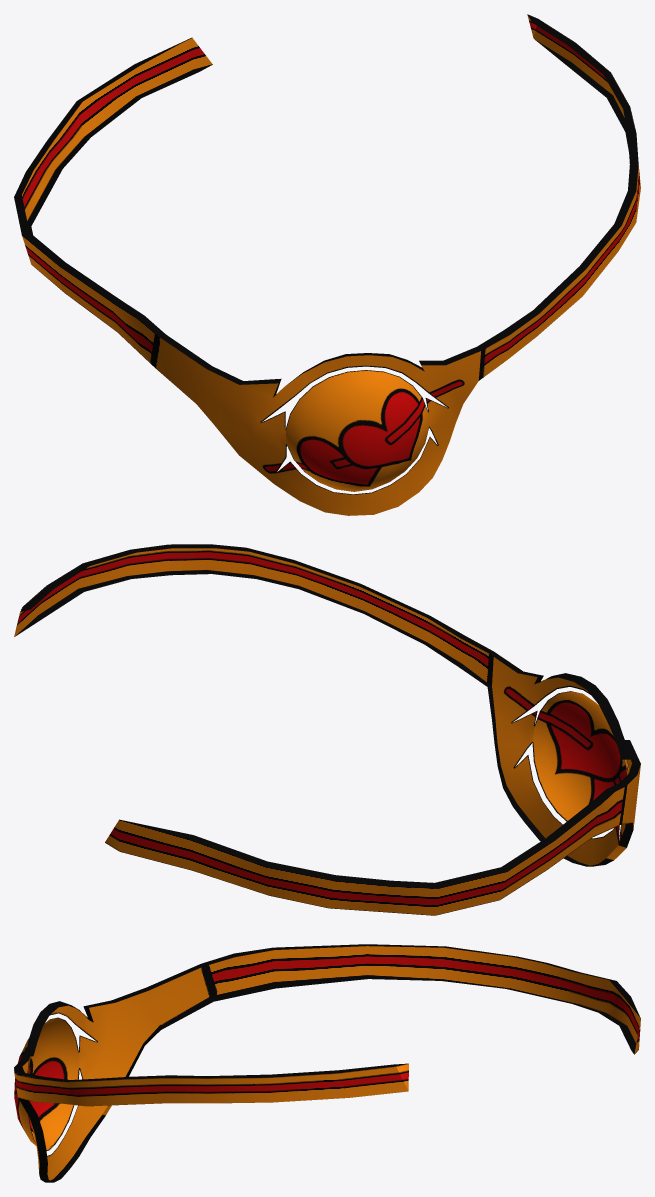
File: _headwear_004_jiuyou.fbx
3 renders of one model, top to bottom at view 1: azimuth 30°, elevation 25°; view 2: azimuth 150°, elevation 25°; view 3: azimuth 270°, elevation 25°, orthographic. The views are drawn at different scales.
Visible parts, largest first — view 1: f_headwear_004_jiuyou; view 2: f_headwear_004_jiuyou; view 3: f_headwear_004_jiuyou.
Part boxes in pixels (<box>): f_headwear_004_jiuyou: <box>14,14,640,515</box>; f_headwear_004_jiuyou: <box>14,544,640,915</box>; f_headwear_004_jiuyou: <box>14,944,640,1182</box>.
Size of the model in its own units: 16.68 by 8.95 by 18.54.
